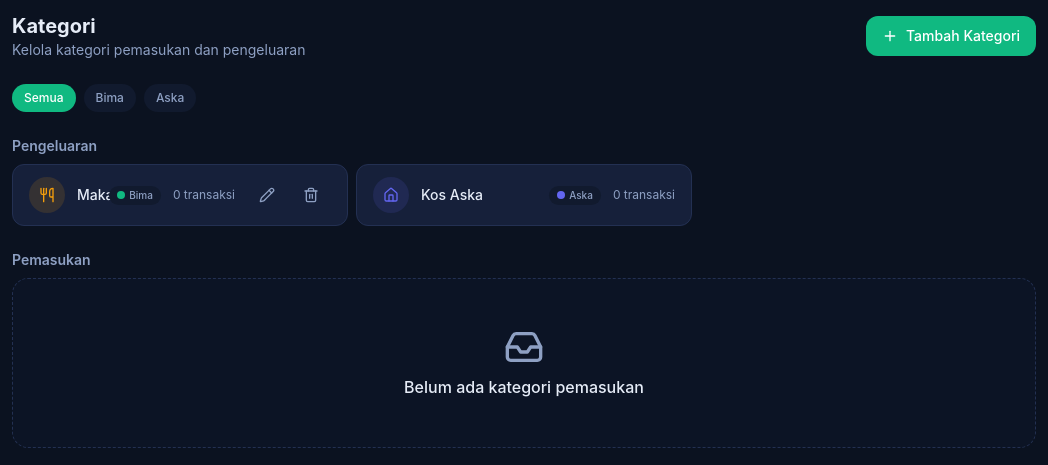
Test: CategoriesPage › narrows the categories to the selected owner via the filter
Expected: the text "Makanan" is shown, [77,185,97,205]
Expected: the text "Kos Aska" is shown, [421,186,483,203]
Click the button "Aska": click(170, 98) [144,84,196,112]
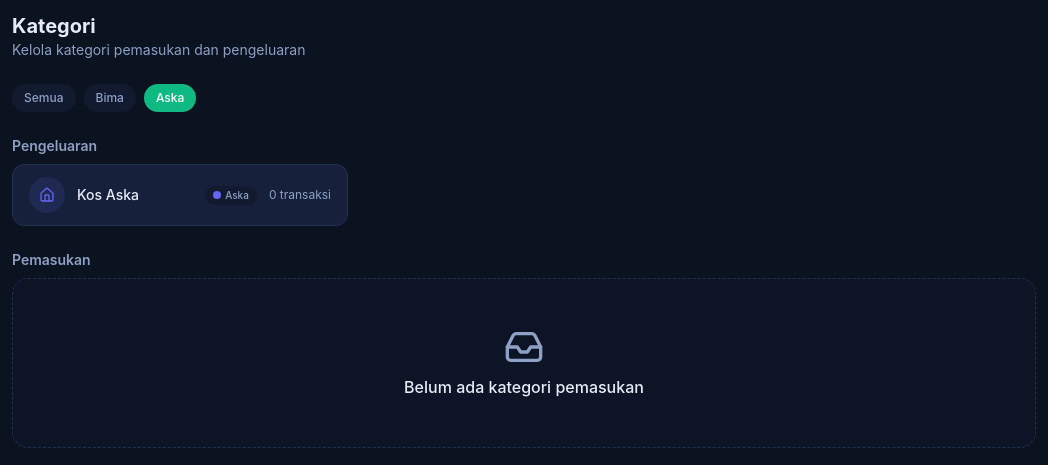
Expected: the text "Kos Aska" is shown, [77,186,139,203]
Expected: the text "Makanan" is gone
